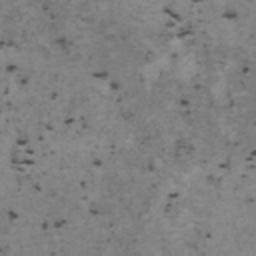Oxide scale of temperature system: (0, 13, 122, 230), (178, 67, 251, 108), (163, 4, 237, 38), (219, 148, 256, 204), (146, 163, 155, 172), (168, 193, 179, 200), (205, 230, 212, 239)
